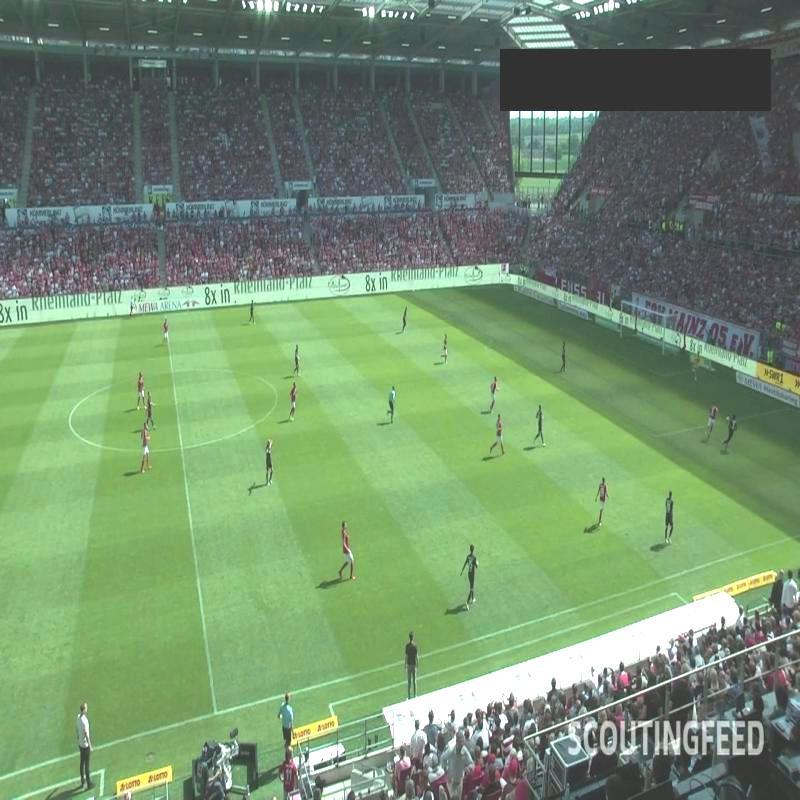1: (499, 284, 513, 297)
10: (485, 334, 499, 346)
11: (534, 370, 547, 380)
12: (648, 428, 663, 445)
13: (158, 309, 172, 323)
14: (165, 364, 179, 378)
15: (174, 441, 188, 455)
16: (208, 704, 224, 724)
2: (532, 298, 540, 306)
3: (585, 321, 603, 331)
4: (690, 360, 704, 374)
5: (784, 401, 798, 416)
7: (556, 322, 568, 336)
8: (657, 368, 672, 382)
9: (423, 304, 438, 316)
c: (62, 410, 76, 424), (270, 386, 284, 400)
